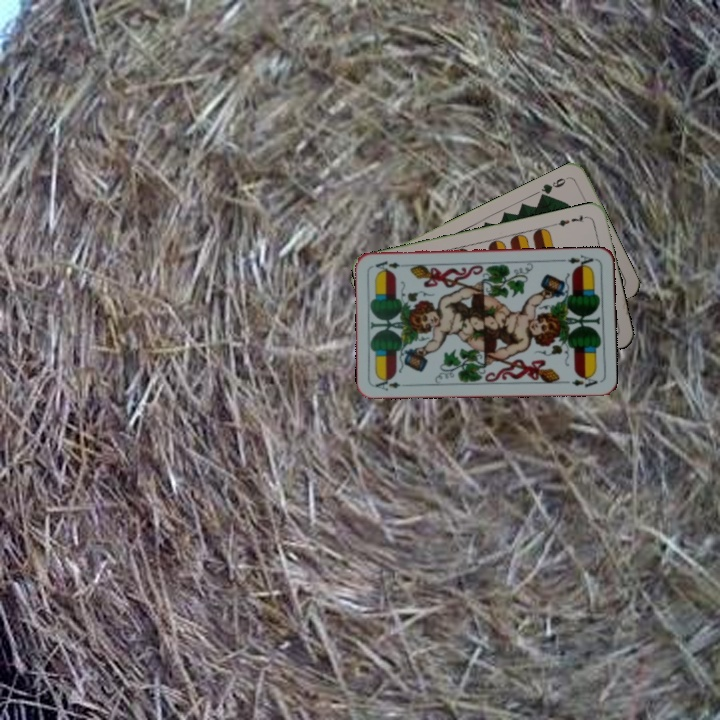E7: (550, 211, 590, 229)
EA: (558, 251, 599, 271), (371, 374, 403, 393)
G9: (536, 172, 572, 201)
